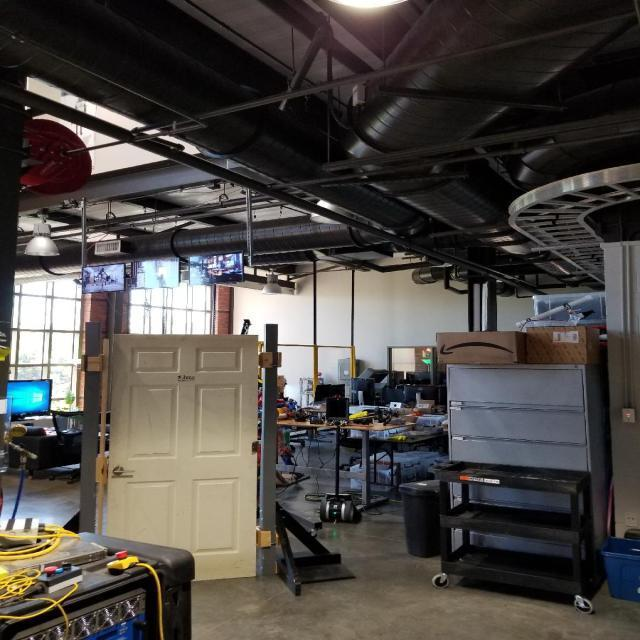door: (100, 331, 262, 582), (114, 463, 136, 478)
